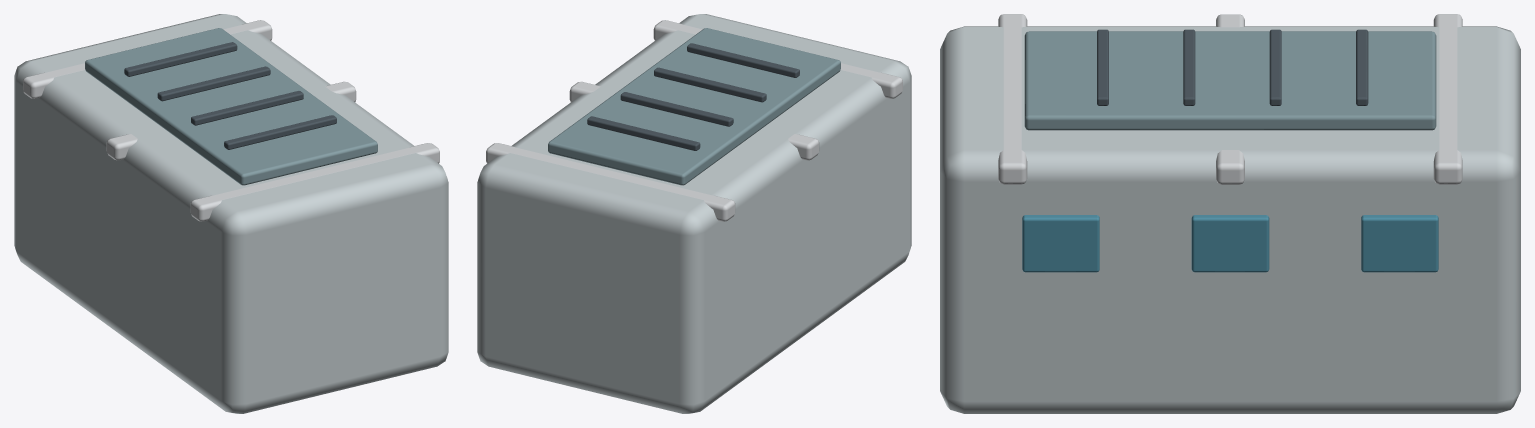
Rendered from cargo.glb.
The picture shows the model from 3 angles, left to right: view 1: azimuth 30°, elevation 25°; view 2: azimuth 150°, elevation 25°; view 3: azimuth 270°, elevation 25°; orthographic projection. The views are drawn at different scales.
Parts seen in each view (by area): view 1: cargo-pod; view 2: cargo-pod; view 3: cargo-pod.
Part boxes in pixels (x1,y1,x2,y2): cargo-pod: [14, 14, 448, 413]; cargo-pod: [477, 14, 911, 413]; cargo-pod: [940, 14, 1520, 413].
Size of the model in its own units: 1.5 by 1.32 by 2.4.
